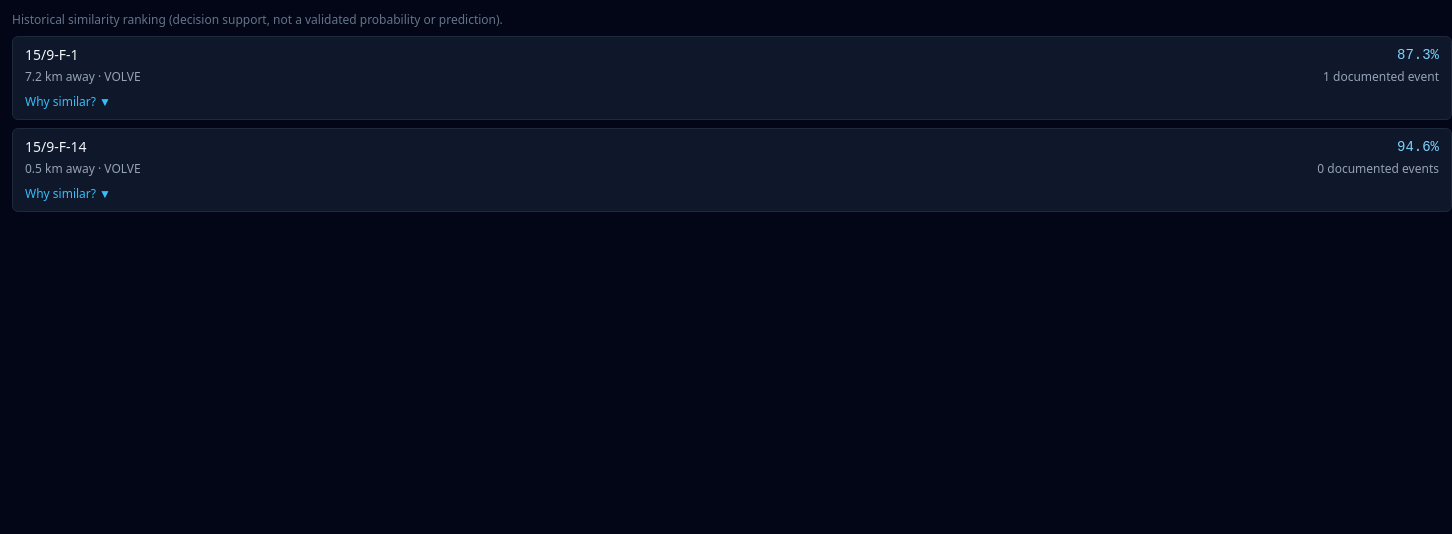
Test: ComparableWellsPanel › collapses the breakdown again when toggled a second time
Click the 1st button "Why similar? ▼": [68, 102] box [25,94,111,110]
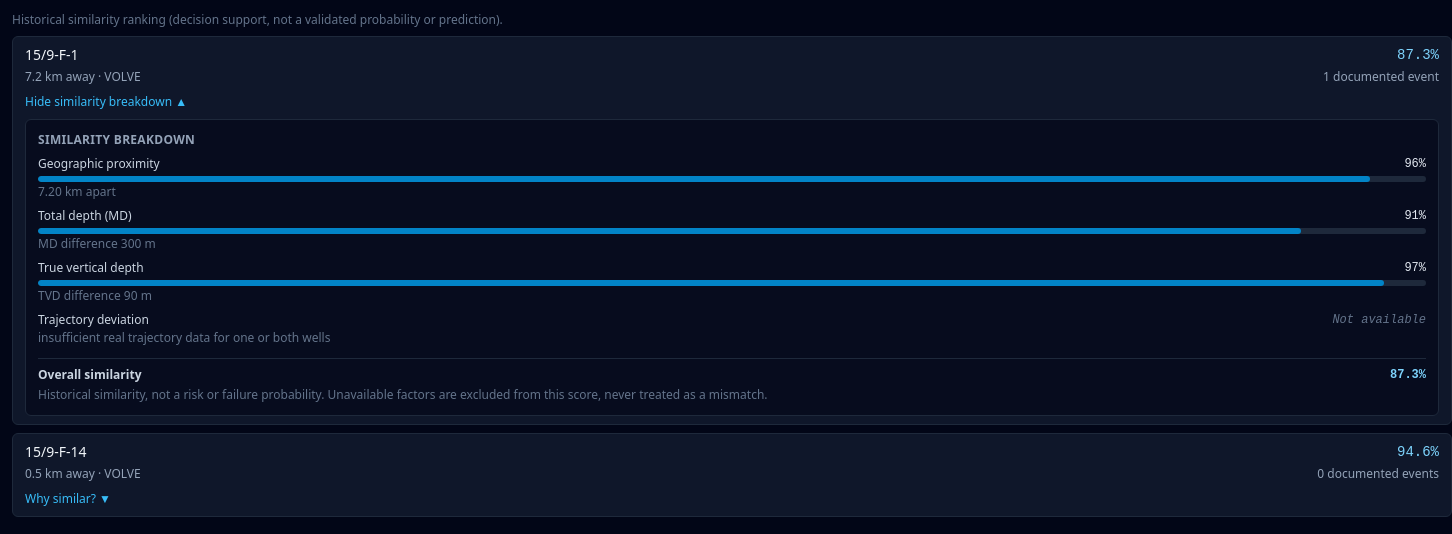
Expected: the text "Similarity breakdown" is shown, [38,131,195,148]
Click the button "Hide similarity breakdown ▲": [106, 102] box [25,94,187,110]
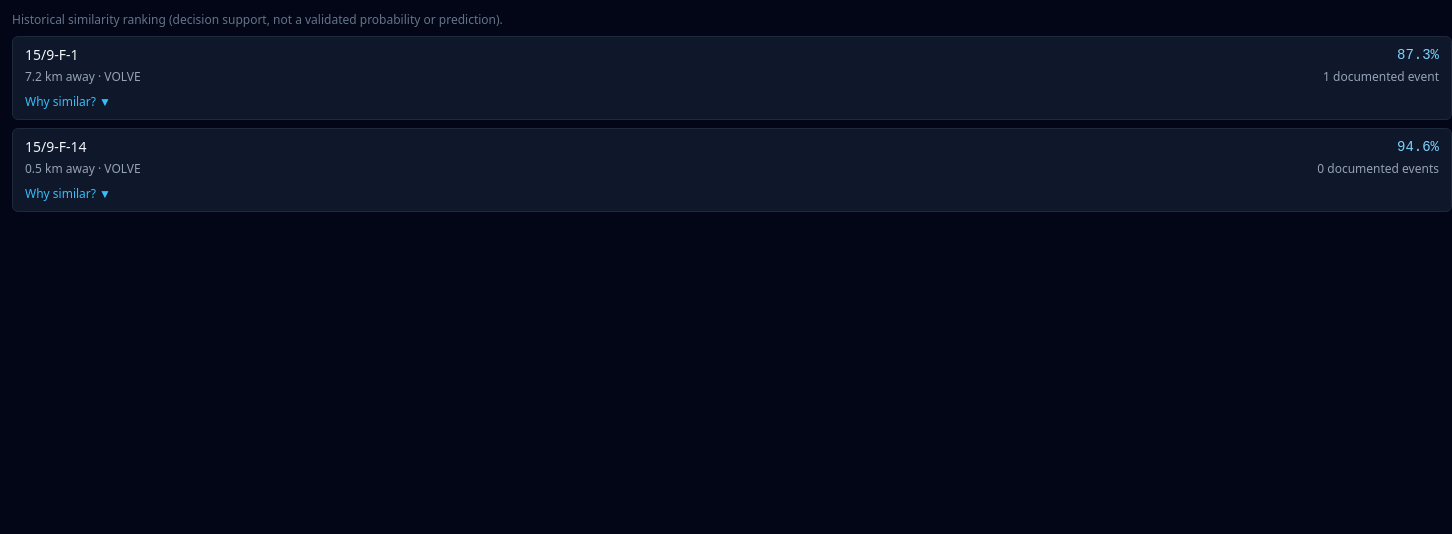
Expected: the button "similarity breakdown" is gone
